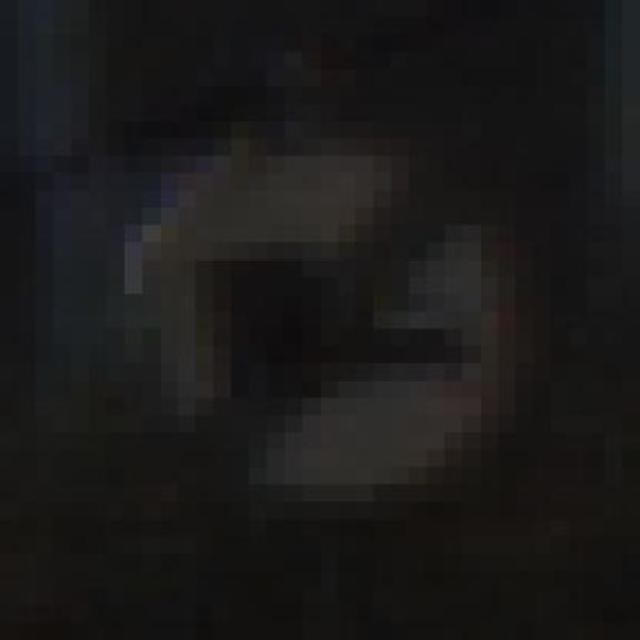Overtaking by trucks is prohibited: (53, 86, 552, 502)
